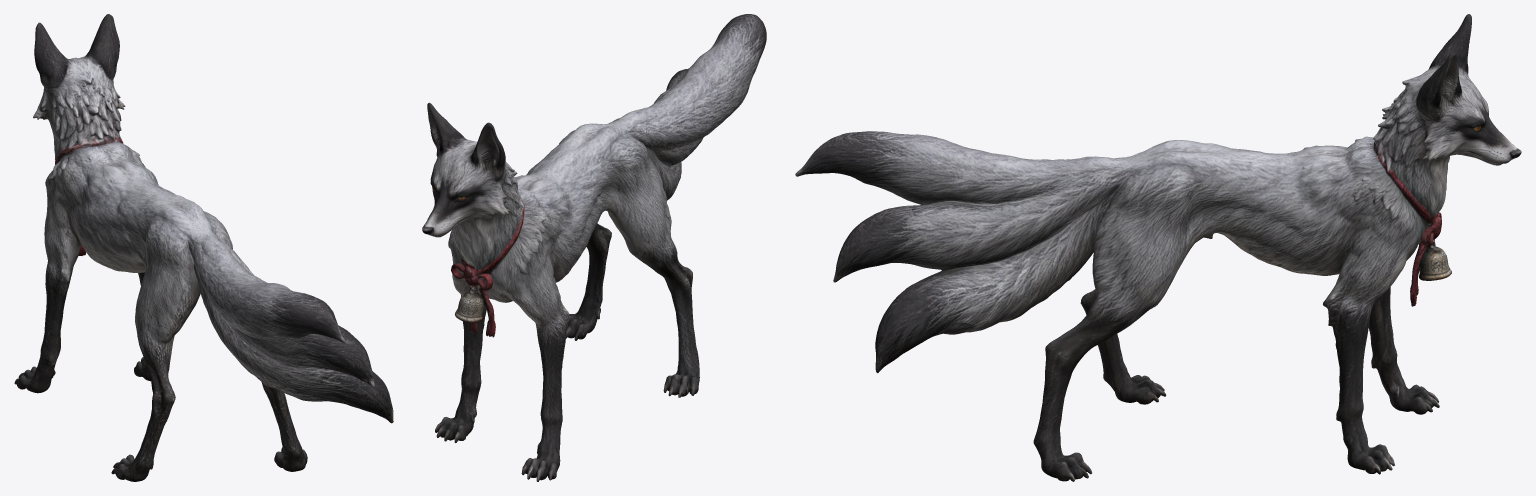
File: fox.glb
3 renders of one model, left to right at view 1: azimuth 30°, elevation 25°; view 2: azimuth 150°, elevation 25°; view 3: azimuth 270°, elevation 25°, orthographic. The views are drawn at different scales.
Visible parts, largest first — view 1: tripo_node_43954a6c-dc21-4767-8b20-18877ae42900; view 2: tripo_node_43954a6c-dc21-4767-8b20-18877ae42900; view 3: tripo_node_43954a6c-dc21-4767-8b20-18877ae42900.
Part boxes in pixels (<box>): tripo_node_43954a6c-dc21-4767-8b20-18877ae42900: <box>14,14,393,481</box>; tripo_node_43954a6c-dc21-4767-8b20-18877ae42900: <box>422,14,766,481</box>; tripo_node_43954a6c-dc21-4767-8b20-18877ae42900: <box>795,14,1521,481</box>.
Size of the model in its own units: 0.3248 by 0.6261 by 1.
Materials: 1 (1 with a texture image).
